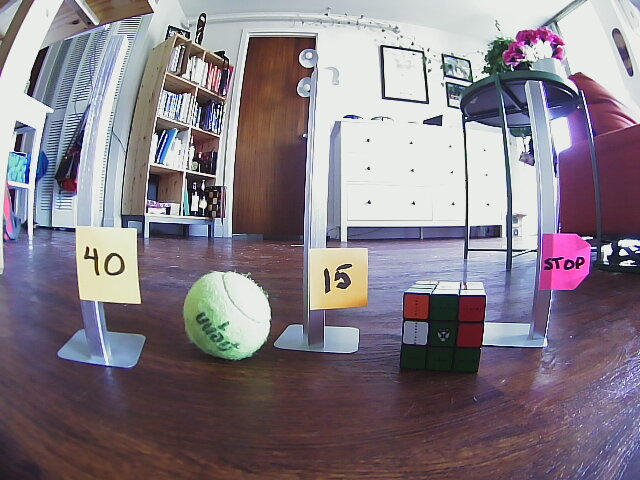15: (308, 249, 367, 307)
40: (78, 230, 135, 303)
ball: (181, 268, 274, 360)
cube: (403, 280, 485, 375)
stop: (540, 235, 590, 288)
